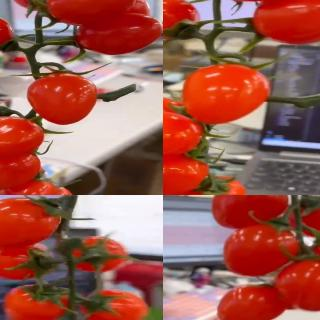tomato: (182, 62, 272, 126), (223, 219, 302, 276), (76, 14, 163, 58), (27, 71, 96, 124), (0, 198, 62, 249), (250, 0, 320, 44), (212, 195, 293, 228), (56, 237, 130, 273), (218, 283, 290, 320), (272, 257, 320, 311), (3, 282, 69, 320), (44, 0, 133, 28), (78, 287, 151, 320), (0, 245, 56, 284), (163, 153, 208, 195), (163, 114, 201, 161), (0, 117, 42, 159), (0, 152, 42, 192), (163, 0, 198, 41), (194, 173, 248, 195), (6, 0, 67, 17), (296, 195, 320, 236), (0, 178, 56, 195), (163, 98, 191, 132), (29, 185, 75, 195)
